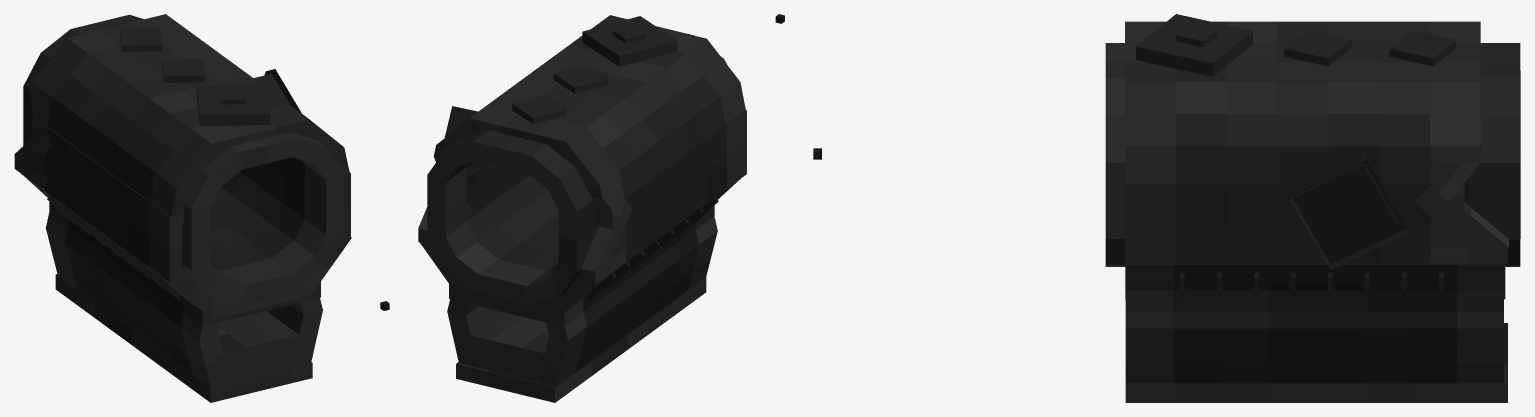
Rendered from j_sigromeo.geo.fbx.
The picture shows the model from 3 angles, left to right: view 1: azimuth 30°, elevation 25°; view 2: azimuth 150°, elevation 25°; view 3: azimuth 270°, elevation 25°; orthographic projection. The views are drawn at different scales.
Visible parts, largest first — view 1: specter6, specter8, specter3, specter7; view 2: specter6, specter8, specter3, specter7; view 3: specter6, specter8, specter3, specter7.
Boxes of the visible parts, left/top/right/bottom form: specter6: left=14, top=14, right=350, bottom=282; specter8: left=23, top=175, right=351, bottom=402; specter3: left=23, top=14, right=344, bottom=304; specter7: left=120, top=27, right=270, bottom=126; specter6: left=418, top=15, right=746, bottom=284; specter8: left=420, top=179, right=739, bottom=402; specter3: left=427, top=26, right=726, bottom=304; specter7: left=512, top=16, right=677, bottom=124; specter6: left=1125, top=21, right=1508, bottom=270; specter8: left=1125, top=263, right=1507, bottom=402; specter3: left=1105, top=43, right=1520, bottom=266; specter7: left=1136, top=14, right=1456, bottom=76.
Bounding box in the file's own units: 34.43 × 44.16 × 83.36.
1 material, 1 textured.
